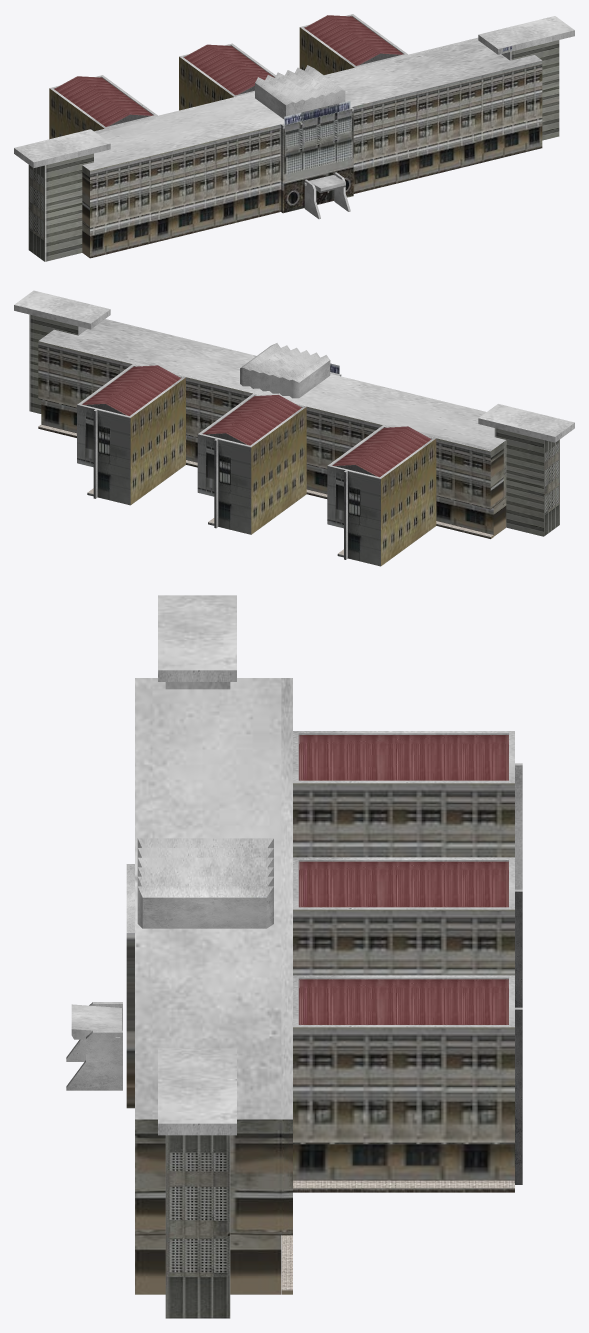
3 renders of one model, top to bottom at view 1: azimuth 30°, elevation 25°; view 2: azimuth 150°, elevation 25°; view 3: azimuth 270°, elevation 25°, orthographic. The views are drawn at different scales.
Parts seen in each view (by area): view 1: 5c779abfbdd69e54386ebe8f.001; view 2: 5c779abfbdd69e54386ebe8f.001; view 3: 5c779abfbdd69e54386ebe8f.001.
Boxes of the visible parts, x1,y1,x2,y2 form: 5c779abfbdd69e54386ebe8f.001: [14, 14, 574, 261]; 5c779abfbdd69e54386ebe8f.001: [14, 290, 574, 566]; 5c779abfbdd69e54386ebe8f.001: [66, 595, 522, 1318].
Size of the model in its own units: 77.78 by 14.64 by 28.39.
Materials: 1 (1 with a texture image).
